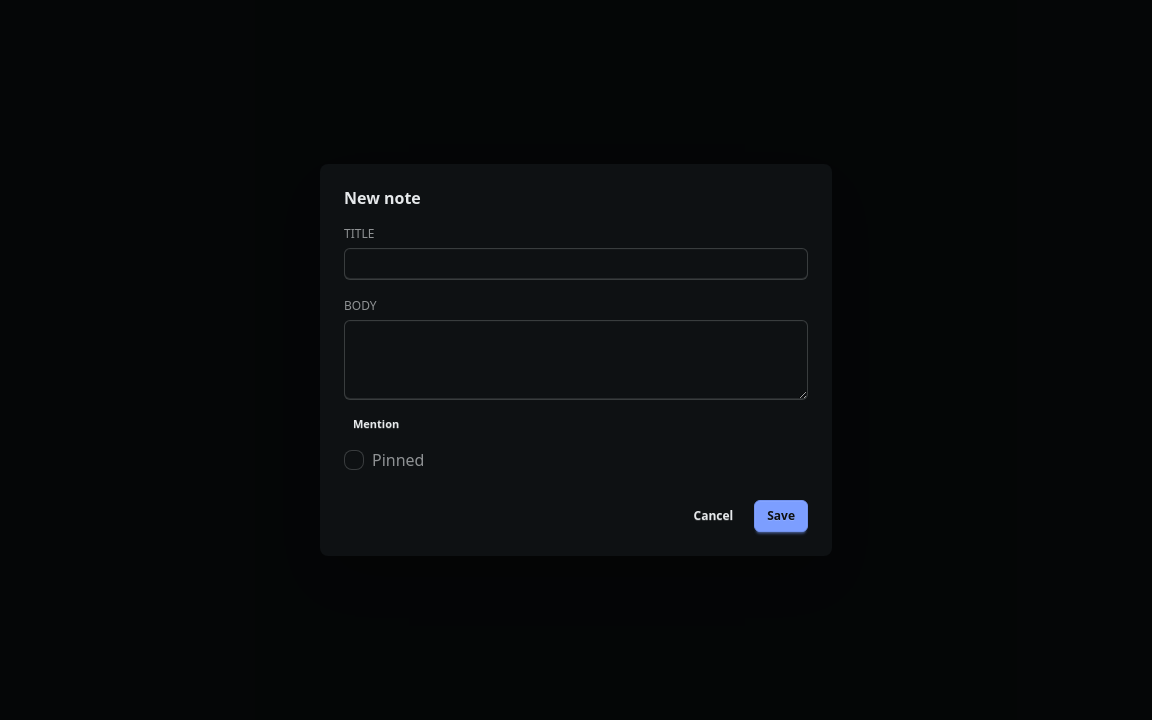
Test case: NoteForm › inserts a mention token into the body at the caret
In the text box labelled "Body": (576, 360) [344, 320, 808, 400], type "Hello  world"
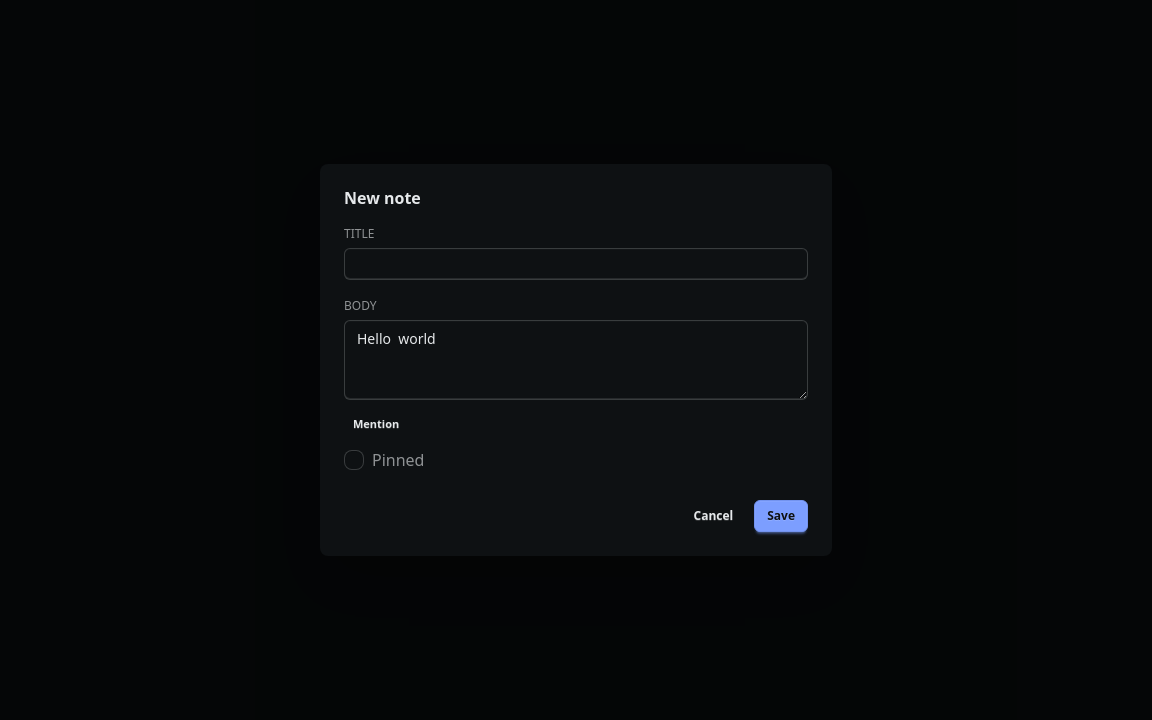
Click the button "Mention": (376, 424) [344, 412, 408, 436]
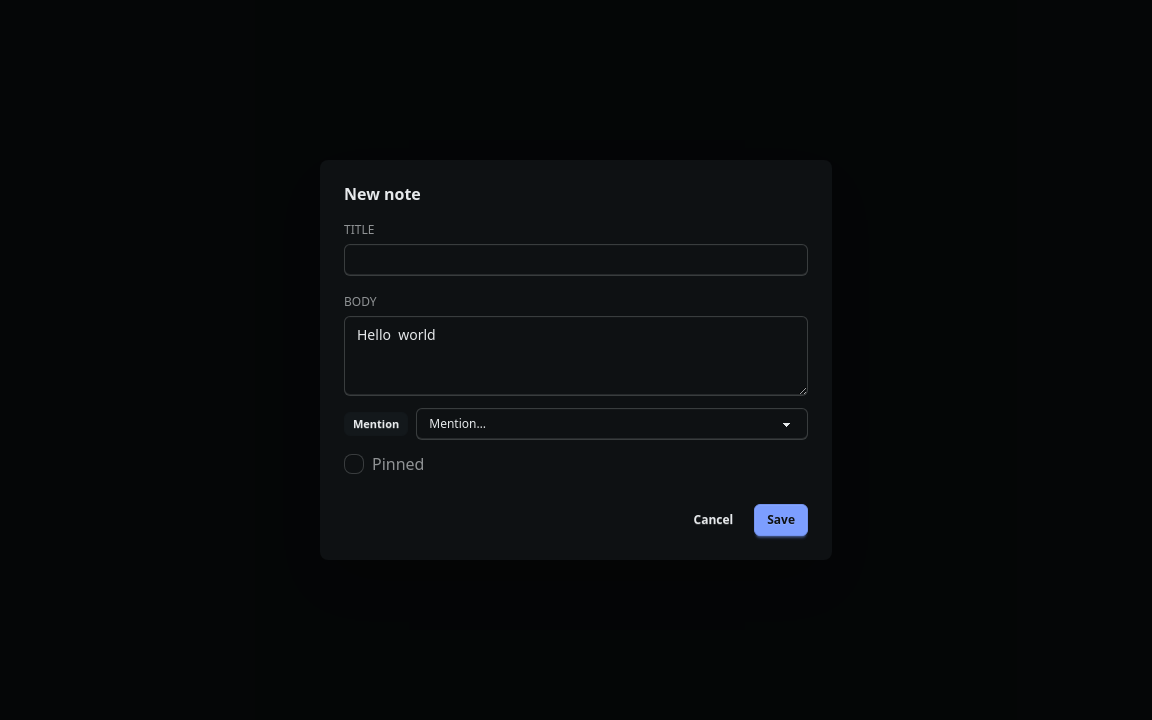
Select "Buy keyboard" in the dropdown named "Insert mention": (612, 424) [416, 408, 808, 440]
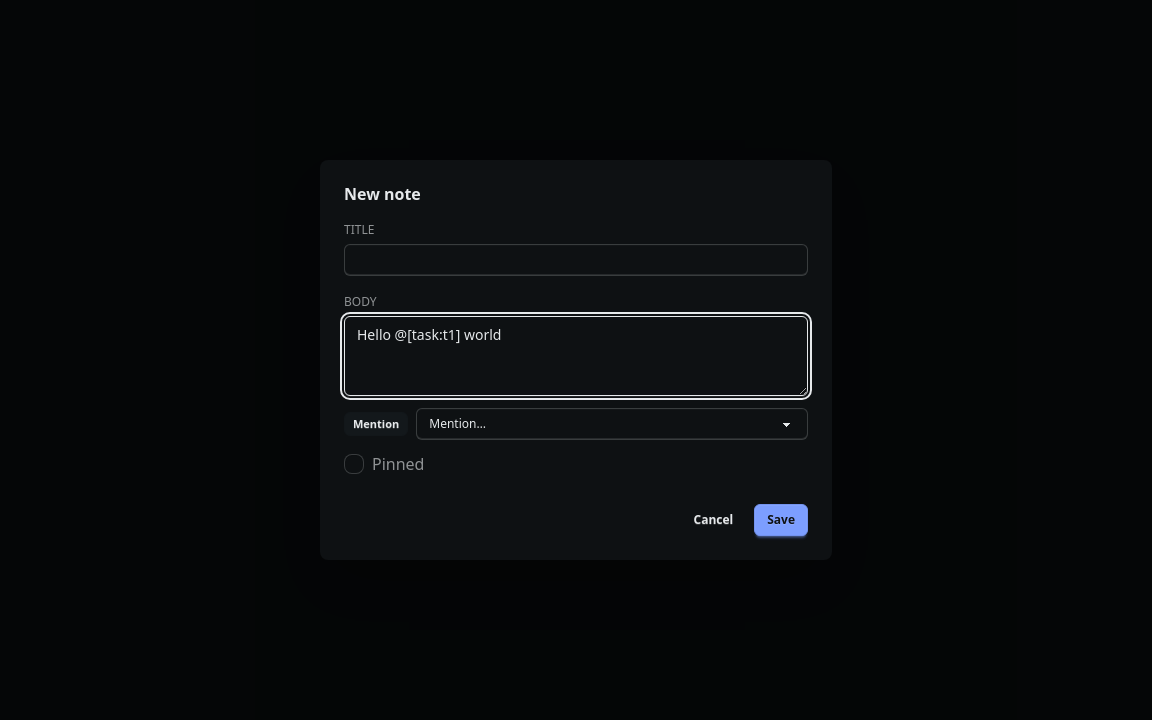
Expected: the text box labelled "Body" holds "Hello @[task:t1] world", [344, 316, 808, 396]
